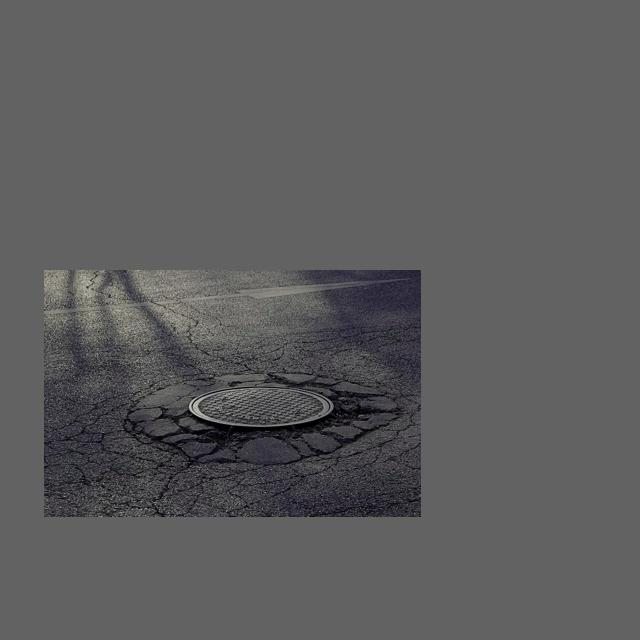circle: (122, 361, 385, 475)
